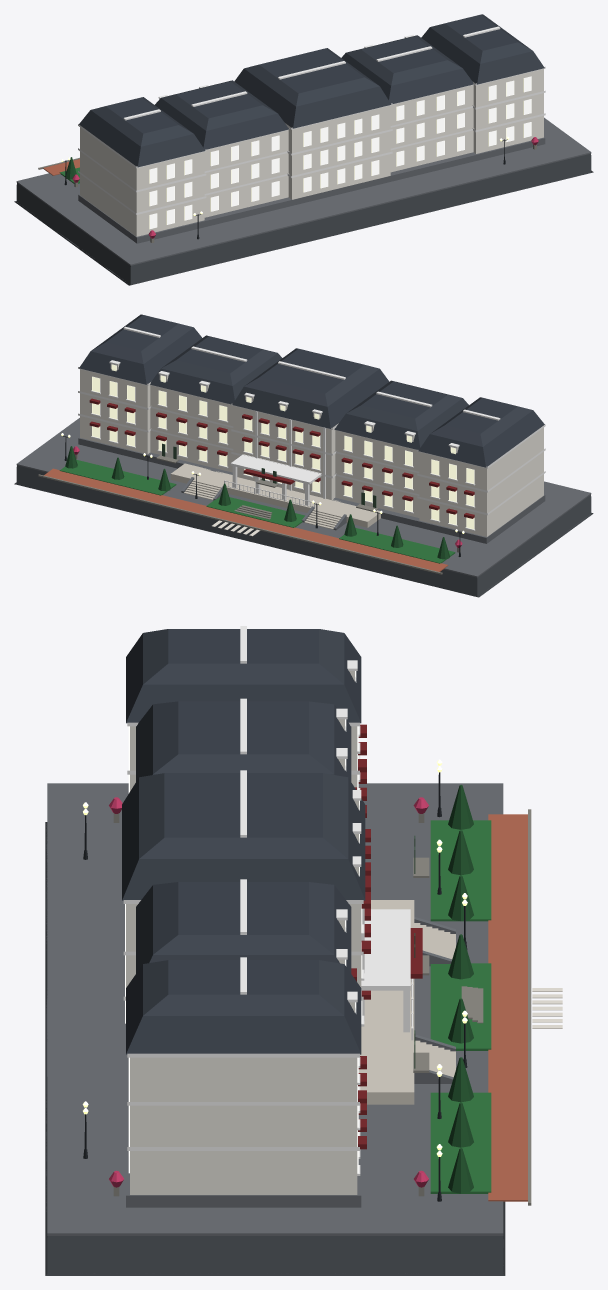
The model's file is lm_12_dalat_palace.glb.
3 views of the same model, one above another, from view 1: azimuth 30°, elevation 25°; view 2: azimuth 150°, elevation 25°; view 3: azimuth 270°, elevation 25° (orthographic). The views are drawn at different scales.
Parts seen in each view (by area): view 1: Palace_Ivory_Facade_Walls, Palace_Mansard_Slate_Roof, Foundation_Plinth_Trim, Foundation_Skirt, Palace_Grand_Windows_Glow, Palace_Neoclassical_Moldings, Palace_Granite_Plinth; view 2: Palace_Ivory_Facade_Walls, Palace_Mansard_Slate_Roof, Foundation_Plinth_Trim, Foundation_Skirt, Palace_Neoclassical_Moldings, Palace_Grand_Windows_Glow, Palace_Terraced_Lawn, Phase2_Interlocking_Brick_Sidewalk, Palace_Terrace_Esplanade, Palace_Granite_Plinth, Palace_Burgundy_Awnings, Phase2_Granite_Curb_And_Entry_Steps (+3 smaller); view 3: Palace_Mansard_Slate_Roof, Foundation_Plinth_Trim, Palace_Ivory_Facade_Walls, Foundation_Skirt, Phase2_Interlocking_Brick_Sidewalk, Palace_Terraced_Lawn, Palace_Neoclassical_Moldings, Palace_Terrace_Esplanade, Palace_Clipped_Topiary_Trees, Palace_Granite_Plinth, Phase2_Granite_Curb_And_Entry_Steps, Palace_Burgundy_Awnings (+5 smaller).
Boxes of the visible parts, box(x1,y1,x2,y2) form: Palace_Ivory_Facade_Walls: box(80, 69, 543, 236); Palace_Mansard_Slate_Roof: box(79, 14, 544, 167); Foundation_Plinth_Trim: box(16, 117, 591, 265); Foundation_Skirt: box(14, 153, 593, 285); Palace_Grand_Windows_Glow: box(149, 76, 531, 229); Palace_Neoclassical_Moldings: box(78, 20, 545, 214); Palace_Granite_Plinth: box(78, 137, 545, 243); Palace_Ivory_Facade_Walls: box(80, 363, 543, 536); Palace_Mansard_Slate_Roof: box(79, 314, 544, 467); Foundation_Plinth_Trim: box(16, 418, 591, 577); Foundation_Skirt: box(14, 465, 593, 597); Palace_Neoclassical_Moldings: box(78, 326, 545, 530); Palace_Grand_Windows_Glow: box(92, 364, 474, 529); Palace_Terraced_Lawn: box(59, 459, 455, 563); Phase2_Interlocking_Brick_Sidewalk: box(44, 468, 448, 571); Palace_Terrace_Esplanade: box(170, 463, 380, 527); Palace_Granite_Plinth: box(78, 437, 545, 543); Palace_Burgundy_Awnings: box(89, 398, 474, 518); Phase2_Granite_Curb_And_Entry_Steps: box(38, 454, 460, 574); Palace_Mansard_Slate_Roof: box(122, 629, 365, 1054); Foundation_Plinth_Trim: box(47, 783, 503, 1235); Palace_Ivory_Facade_Walls: box(126, 671, 361, 1194); Foundation_Skirt: box(45, 822, 505, 1275); Phase2_Interlocking_Brick_Sidewalk: box(488, 814, 527, 1201); Palace_Terraced_Lawn: box(430, 820, 491, 1193); Palace_Neoclassical_Moldings: box(123, 626, 410, 1175); Palace_Terrace_Esplanade: box(358, 900, 414, 1104); Palace_Clipped_Topiary_Trees: box(448, 785, 473, 1193); Palace_Granite_Plinth: box(126, 797, 361, 1207); Phase2_Granite_Curb_And_Entry_Steps: box(113, 809, 531, 1205); Palace_Burgundy_Awnings: box(351, 724, 422, 1149).
Size of the model in its own units: 84.96 by 21.5 by 40.95.
